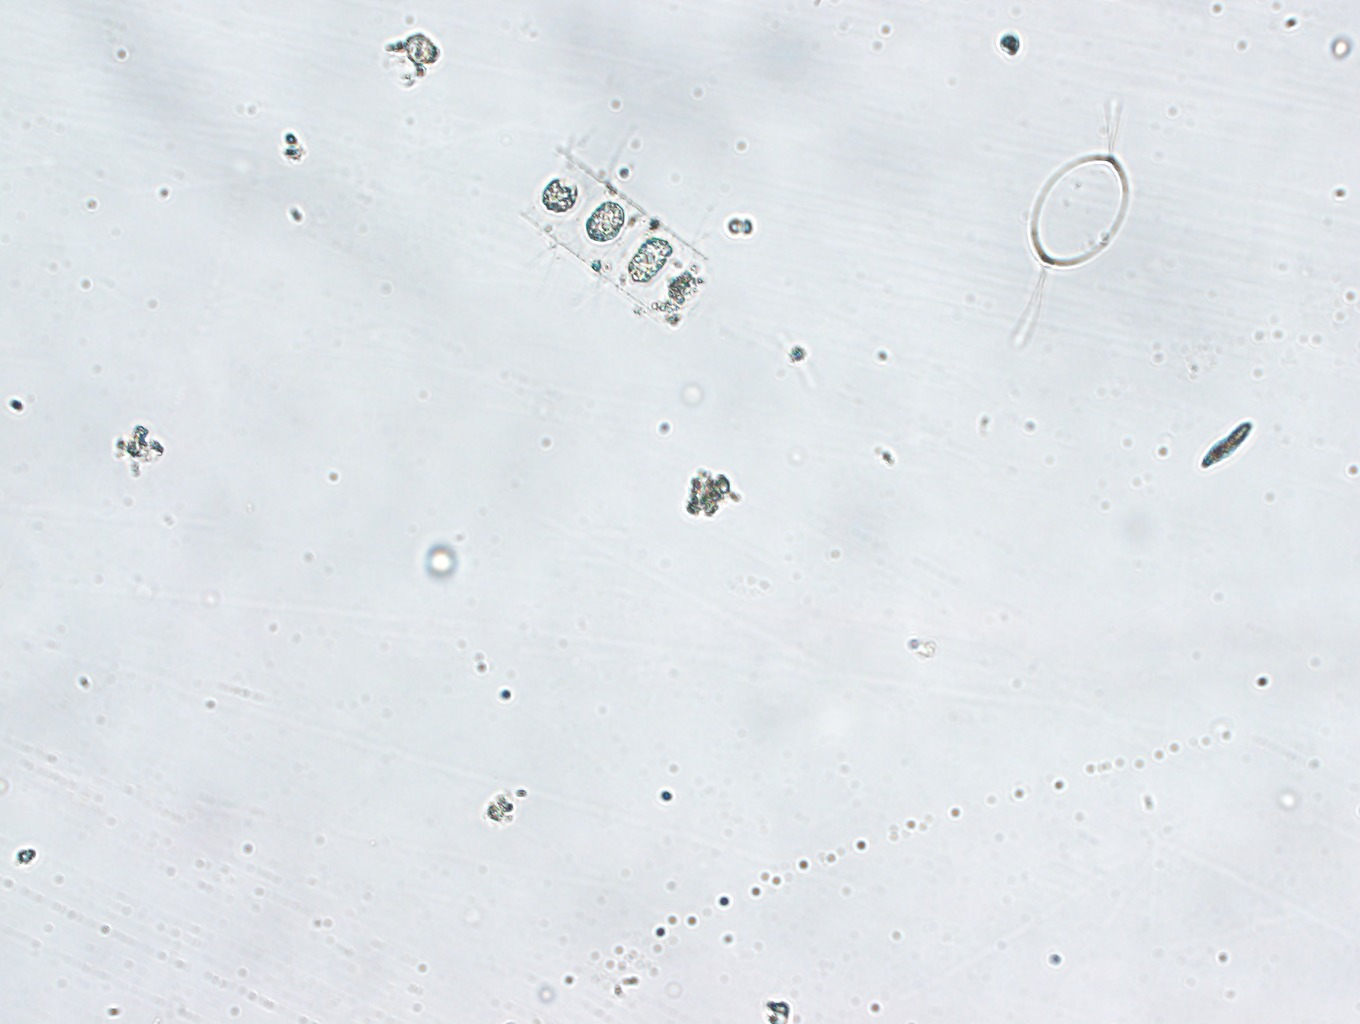chaetoceros: (505, 117, 740, 353), (989, 83, 1134, 361)
